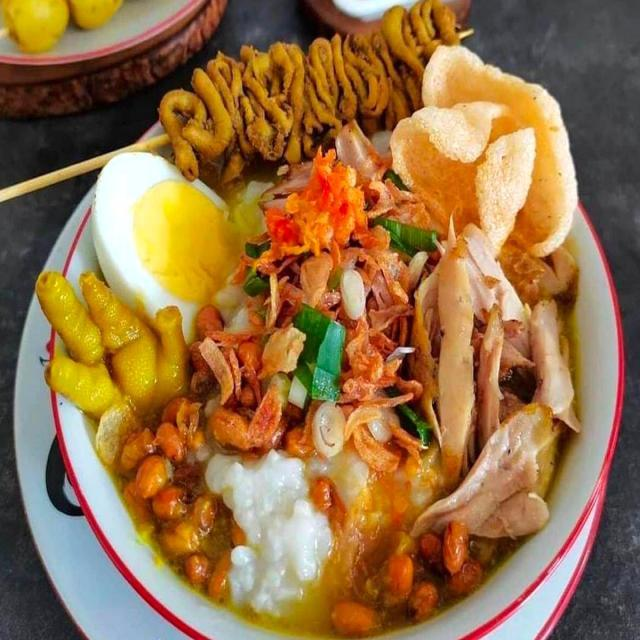bubur ayam: (84, 116, 580, 640)
telur rebus: (91, 148, 259, 356)
